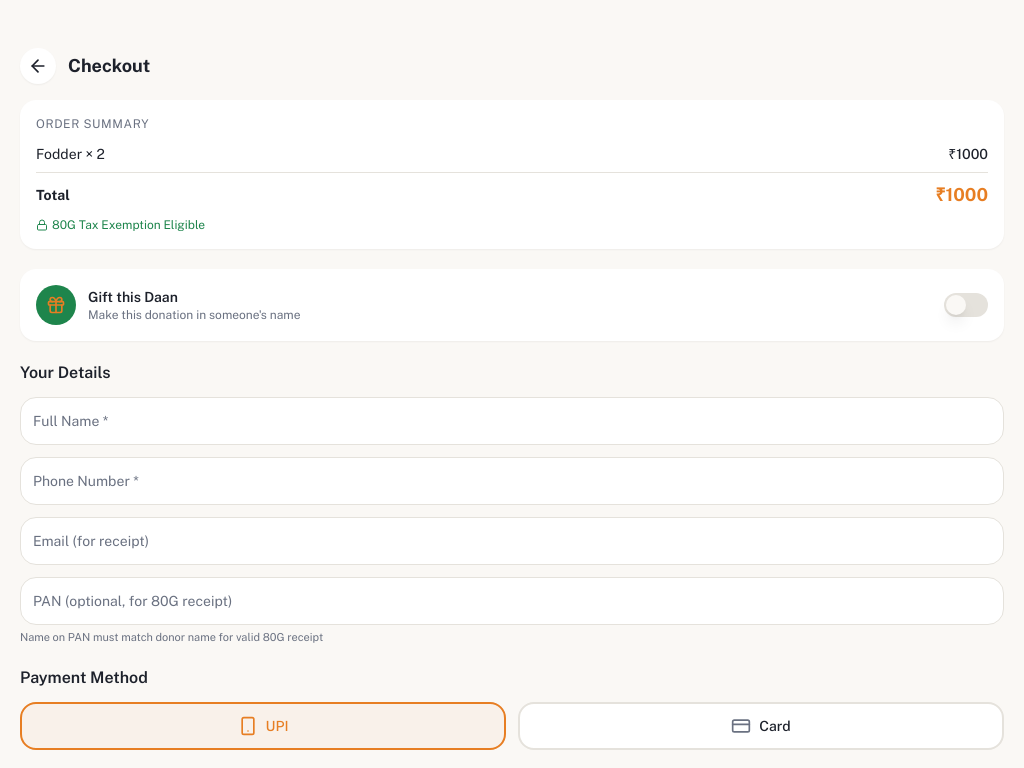
Scenario: PAN validation › shows no-PAN warning dialog when PAN is empty
Type "Test" into the field with placeholder "Full Name *" at (512, 421), box 20,397 -> 1004,445
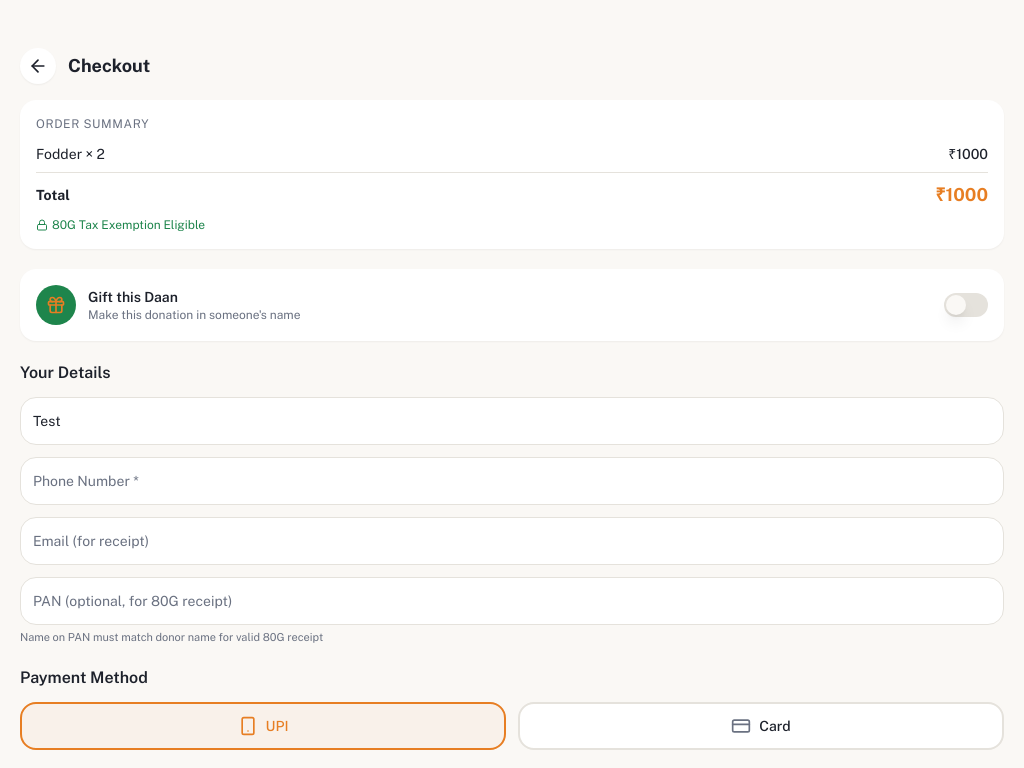
Type "9999999999" into the field with placeholder "Phone Number *" at (512, 481), box 20,457 -> 1004,505
(page scrolled)
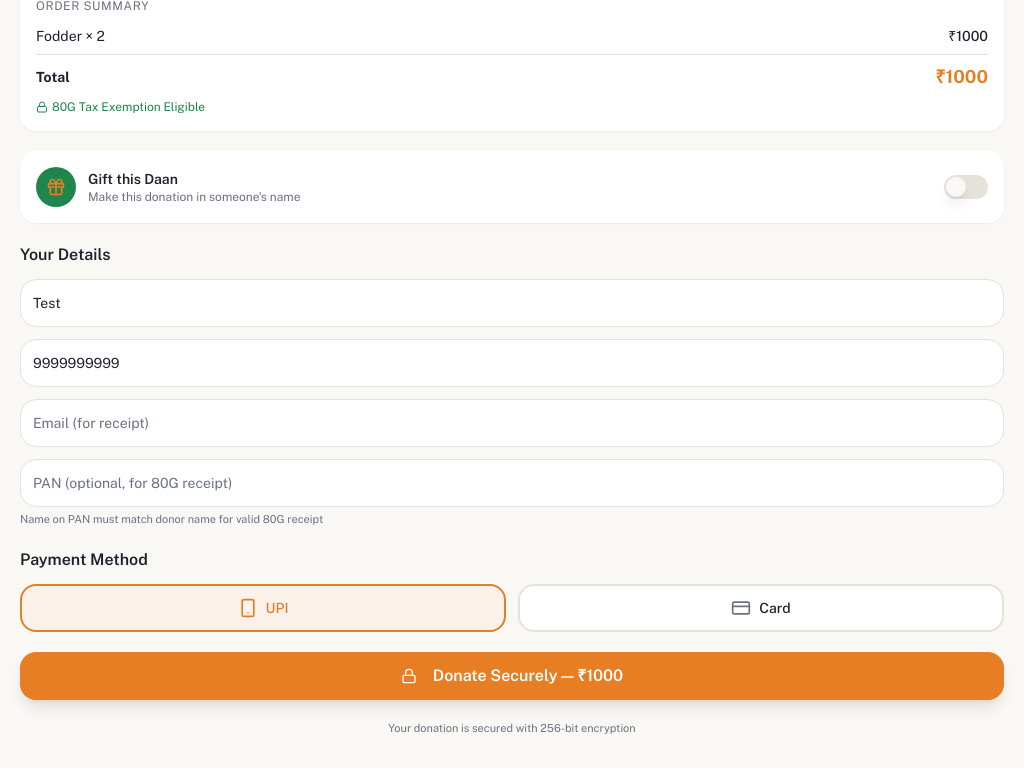
Click the button "Donate Securely — ₹1000" at (512, 676), box 20,652 -> 1004,700
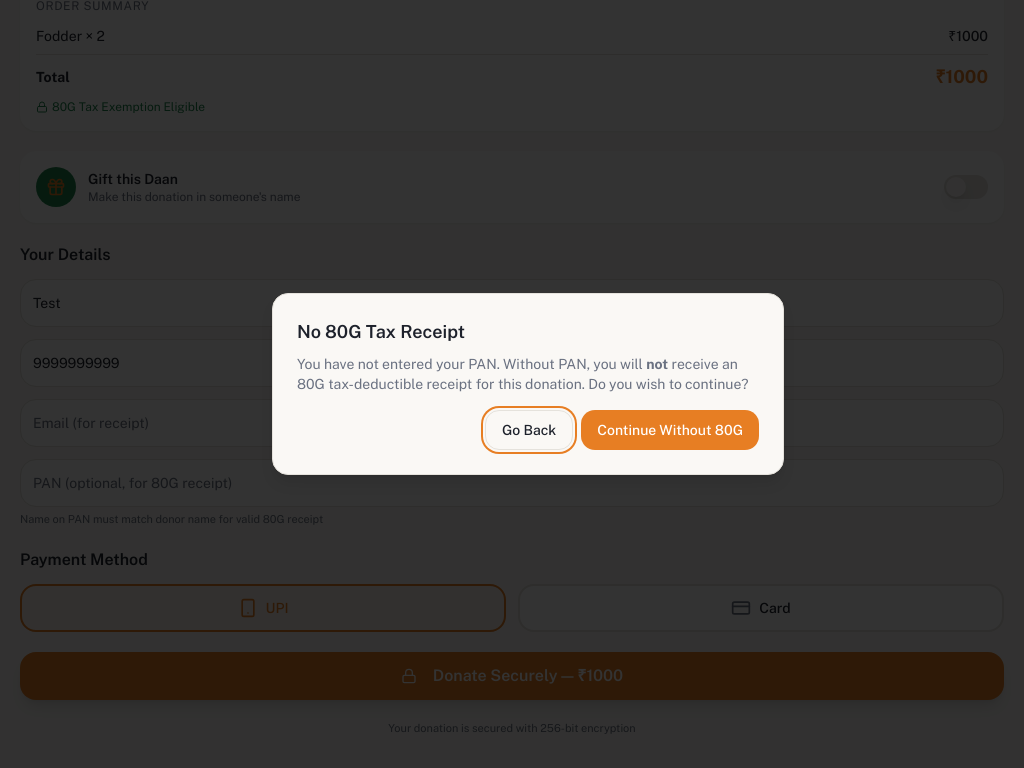
Now the heading "No 80G Tax Receipt" is shown, box 297,321 -> 465,342
